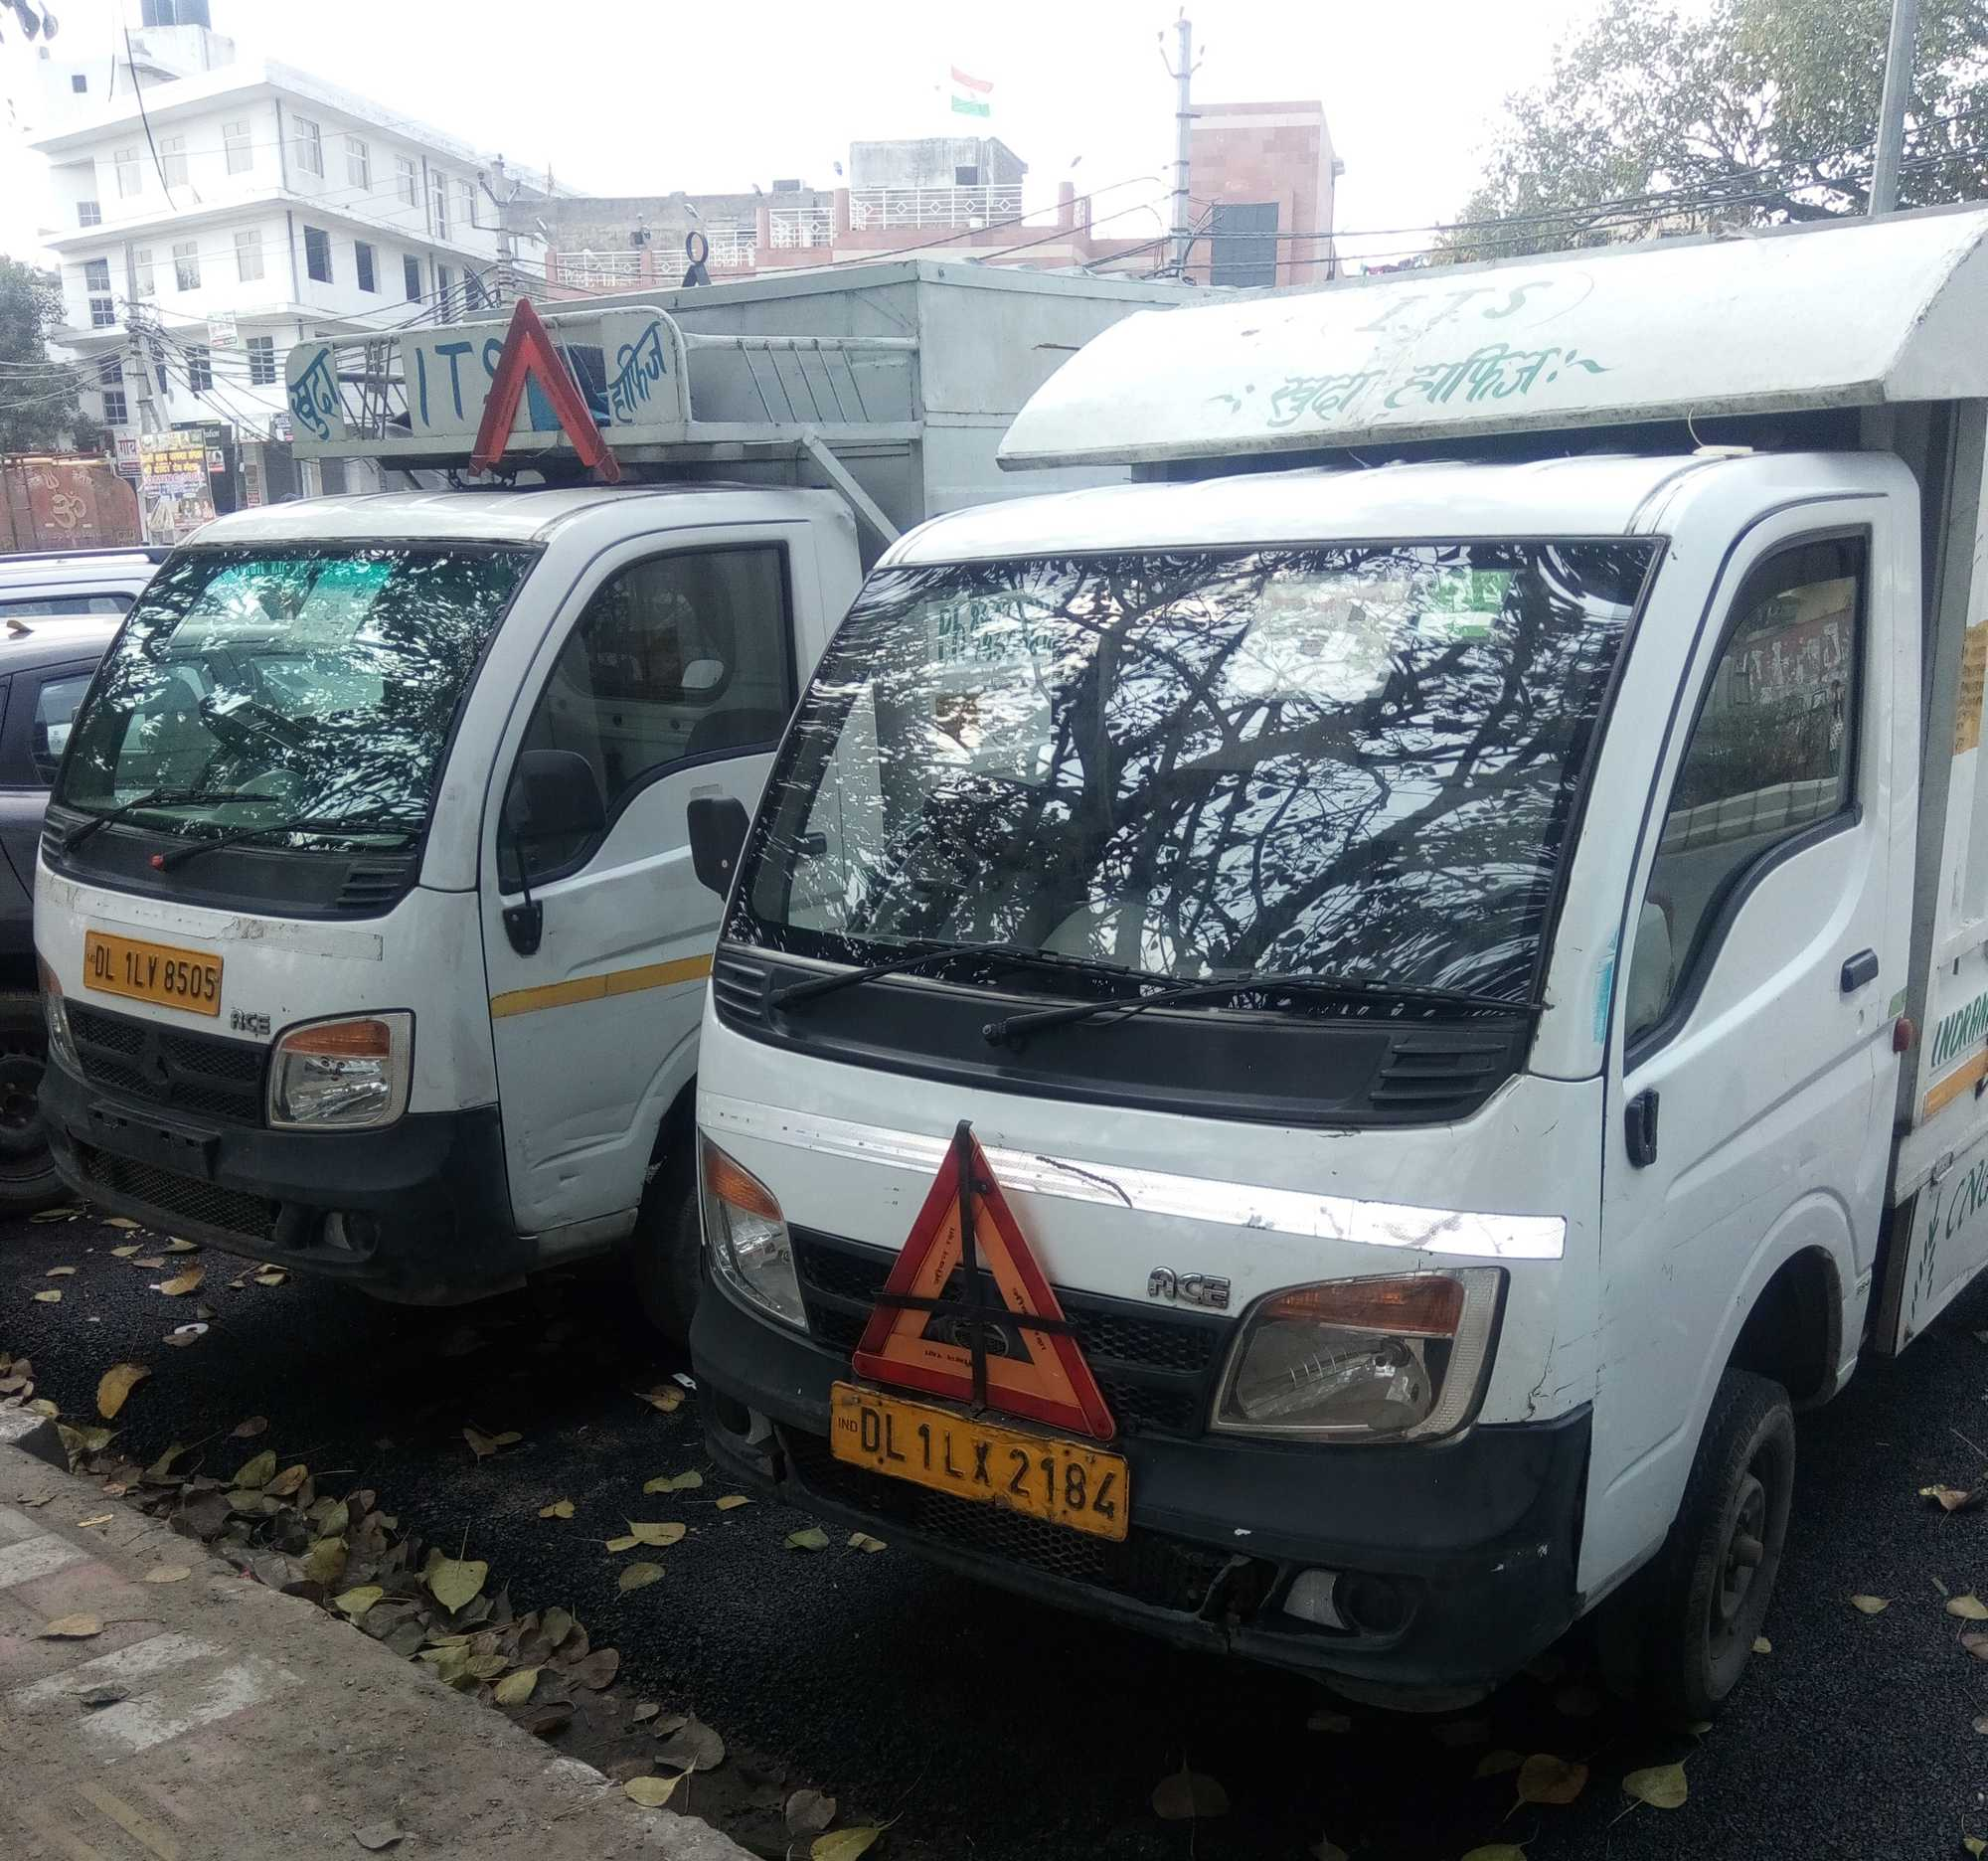numberplate: (823, 1362, 1136, 1552), (80, 916, 222, 1024)
